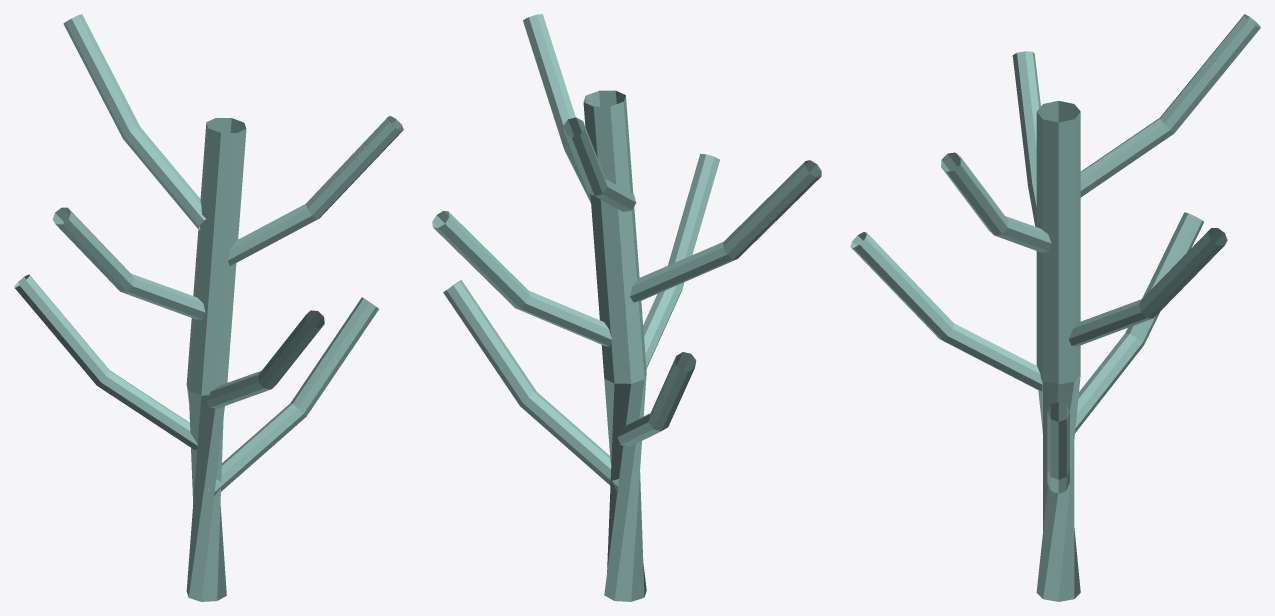
3 renders of one model, left to right at view 1: azimuth 30°, elevation 25°; view 2: azimuth 150°, elevation 25°; view 3: azimuth 270°, elevation 25°, orthographic. The views are drawn at different scales.
Visible parts, largest first — view 1: Coral trunk, Branch.006, Branch, Branch.001, Branch.005, Branch.004, Branch.002; view 2: Coral trunk, Branch, Branch.004, Branch.003, Branch.002, Branch.005, Branch.001, Branch.006; view 3: Coral trunk, Branch.006, Branch.002, Branch.003, Branch.001, Branch.005, Branch.004, Branch.
Part boxes in pixels (<box>): Coral trunk: <box>186,118,246,601</box>; Branch.006: <box>63,14,205,229</box>; Branch: <box>208,297,378,496</box>; Branch.001: <box>14,274,197,449</box>; Branch.005: <box>228,116,403,265</box>; Branch.004: <box>52,207,205,319</box>; Branch.002: <box>207,310,324,408</box>; Coral trunk: <box>583,90,646,601</box>; Branch: <box>443,280,618,491</box>; Branch.004: <box>630,160,821,302</box>; Branch.003: <box>432,210,612,346</box>; Branch.002: <box>643,154,719,368</box>; Branch.005: <box>523,14,590,202</box>; Branch.001: <box>617,352,696,446</box>; Branch.006: <box>563,117,636,211</box>; Coral trunk: <box>1036,100,1080,601</box>; Branch.006: <box>1080,14,1260,197</box>; Branch.002: <box>850,232,1042,391</box>; Branch.003: <box>1069,228,1227,346</box>; Branch.001: <box>1075,212,1203,432</box>; Branch.005: <box>941,152,1051,252</box>; Branch.004: <box>1012,51,1040,226</box>; Branch: <box>1047,401,1069,493</box>.
Size of the model in its own units: 103 by 153 by 102.
